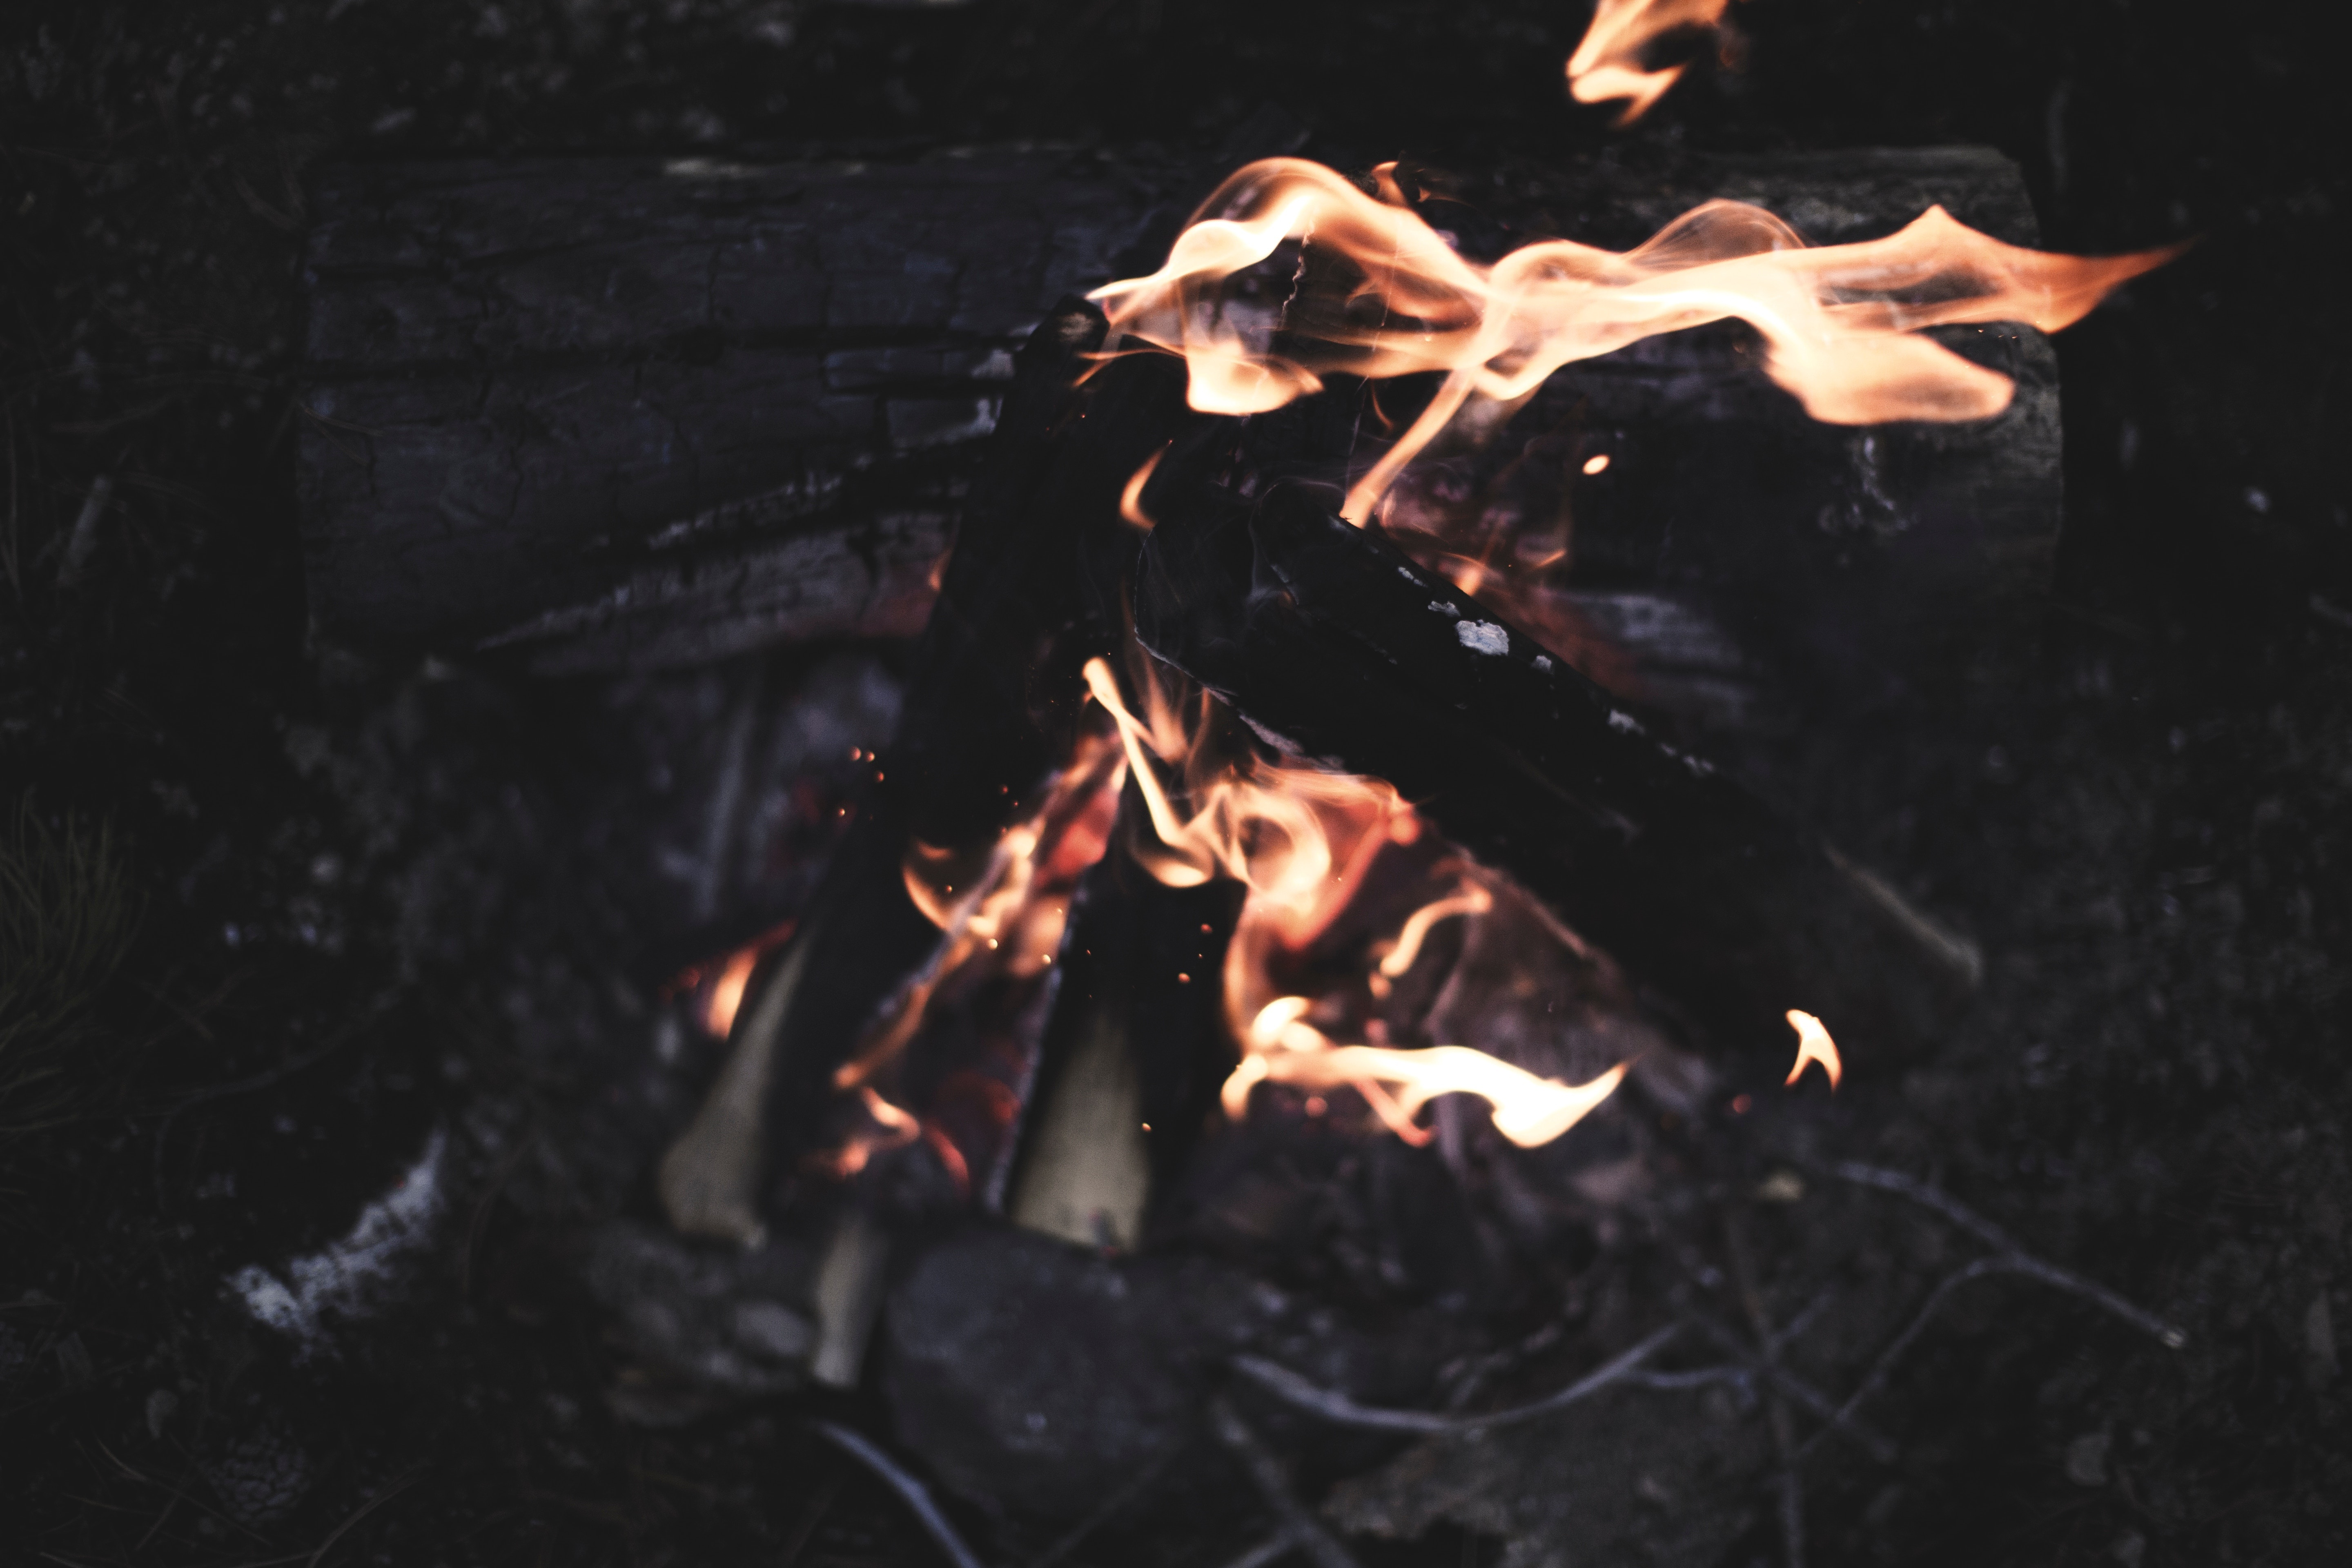fire: (934, 59, 2121, 1227)
